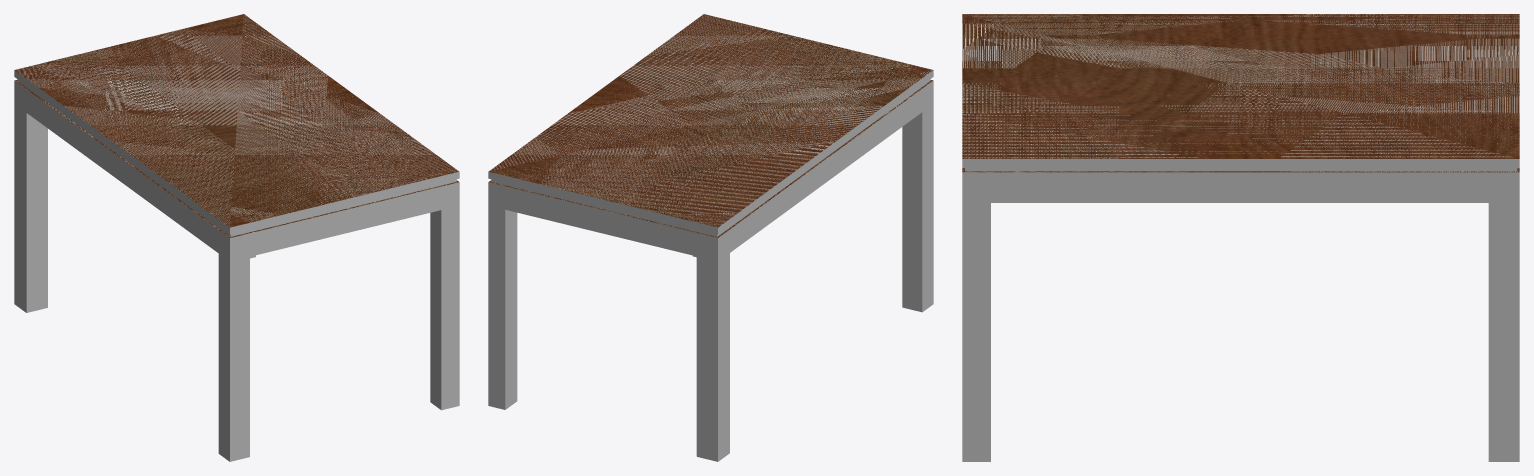
The picture shows the model from 3 angles, left to right: view 1: azimuth 30°, elevation 25°; view 2: azimuth 150°, elevation 25°; view 3: azimuth 270°, elevation 25°; orthographic projection. The views are drawn at different scales.
Visible parts, largest first — view 1: mesh1_mesh1-geometry; view 2: mesh1_mesh1-geometry; view 3: mesh1_mesh1-geometry.
Boxes of the visible parts, x1=… form: mesh1_mesh1-geometry: x1=14, y1=14, x2=459, y2=461; mesh1_mesh1-geometry: x1=488, y1=14, x2=933, y2=461; mesh1_mesh1-geometry: x1=962, y1=14, x2=1519, y2=461.
Bounding box in the file's own units: 0.4667 × 0.455 × 0.7584.
